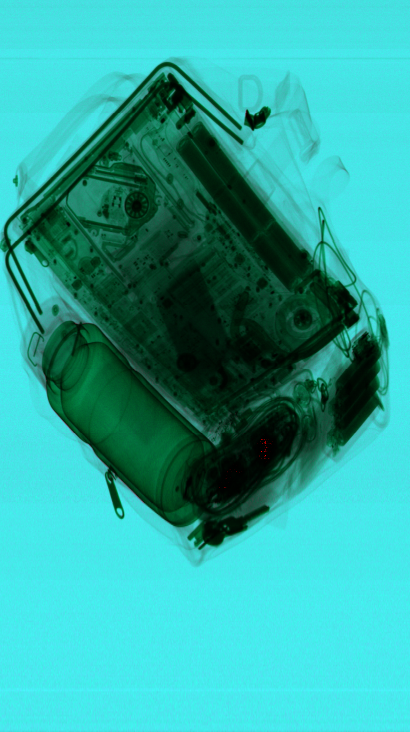Vacuum Cup: (42, 321, 219, 529)
